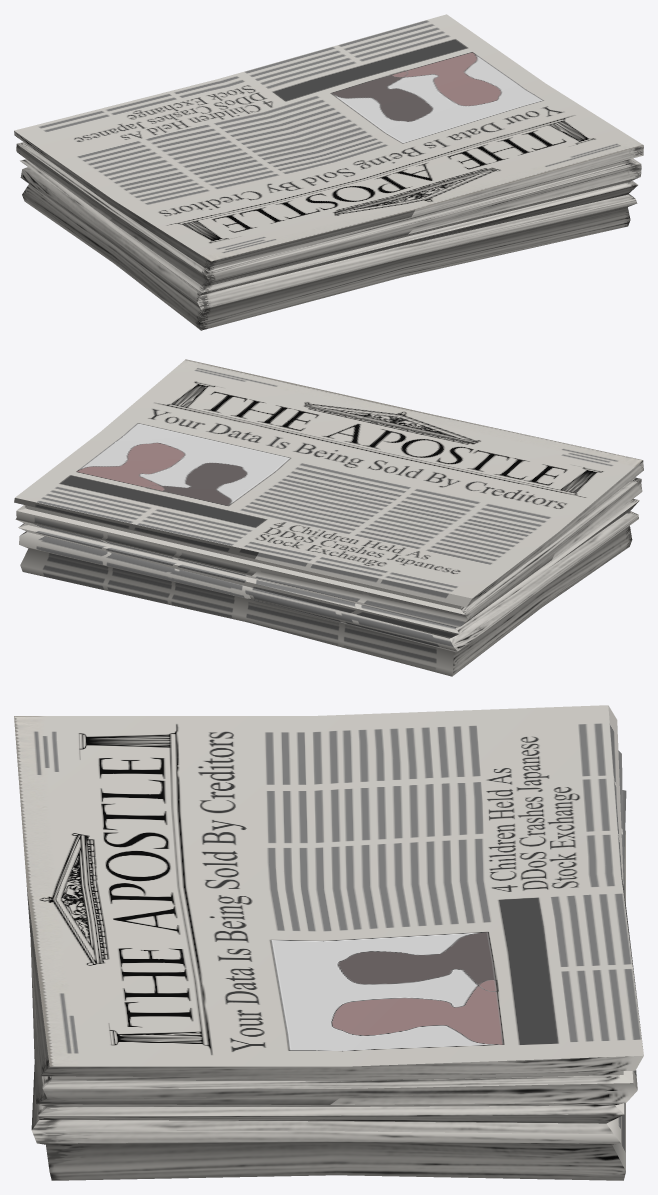
The model's file is NewspaperBundle_small.fbx.
3 renders of one model, top to bottom at view 1: azimuth 30°, elevation 25°; view 2: azimuth 150°, elevation 25°; view 3: azimuth 270°, elevation 25°, orthographic. The views are drawn at different scales.
Parts seen in each view (by area): view 1: NewspaperBundle_small; view 2: NewspaperBundle_small; view 3: NewspaperBundle_small.
Boxes of the visible parts, x1,y1,x2,y2 form: NewspaperBundle_small: (14,14,643,330); NewspaperBundle_small: (14,359,643,676); NewspaperBundle_small: (14,705,643,1180).
Size of the model in its own units: 0.4024 by 0.0655 by 0.2964.
